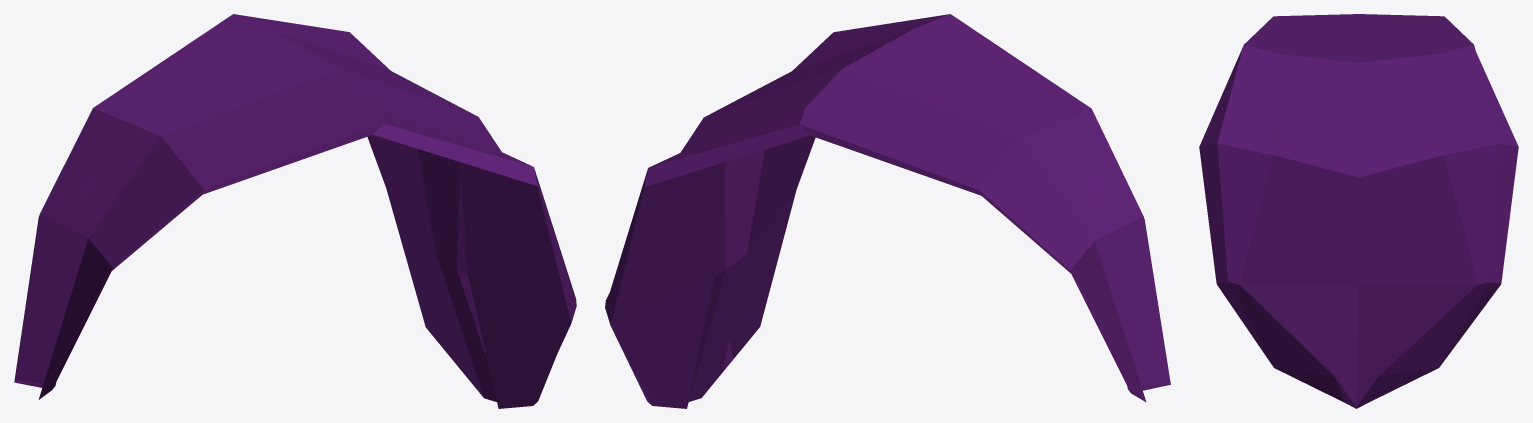
Rendered from Front_fall.fbx.
The picture shows the model from 3 angles, left to right: view 1: azimuth 30°, elevation 25°; view 2: azimuth 150°, elevation 25°; view 3: azimuth 270°, elevation 25°; orthographic projection. The views are drawn at different scales.
Visible parts, largest first — view 1: Front Fall; view 2: Front Fall; view 3: Front Fall.
Part boxes in pixels (x1,y1,x2,y2): Front Fall: [14, 14, 576, 408]; Front Fall: [605, 14, 1170, 408]; Front Fall: [1199, 14, 1518, 408].
Bounding box in the file's own units: 445 × 338 × 335.
